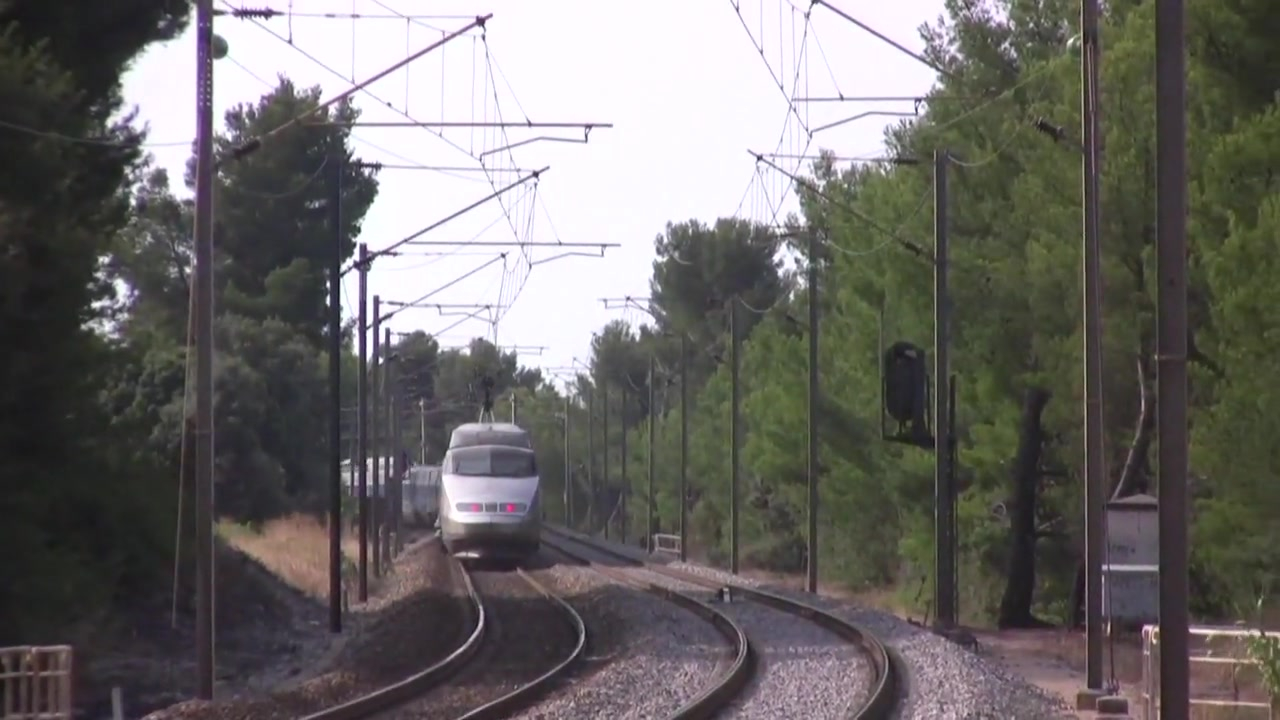train: (396, 414, 547, 570)
